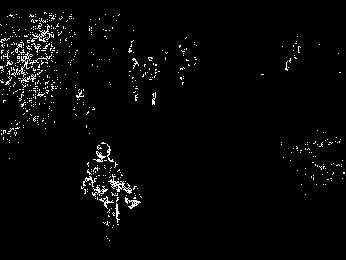person: (80, 140, 143, 231), (144, 56, 160, 107), (131, 56, 138, 103)
